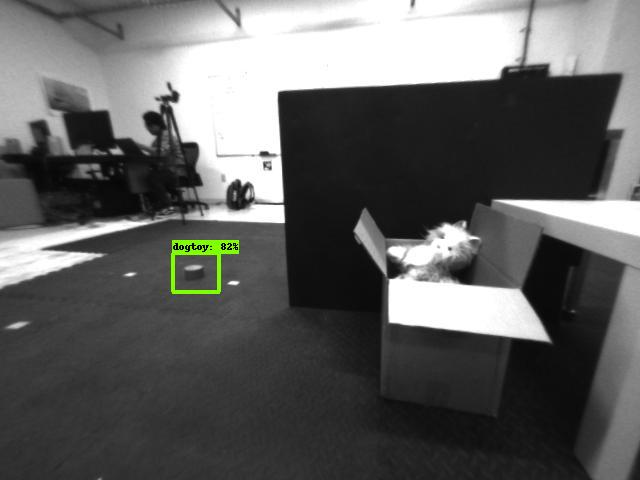dogtoy: (178, 255, 217, 292)
